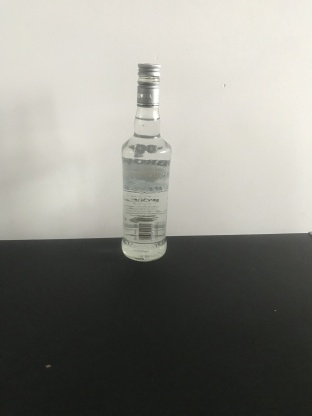nakretka: (135, 62, 161, 108)
